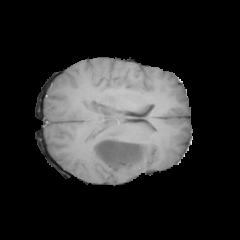glioma: (90, 74, 152, 171)
